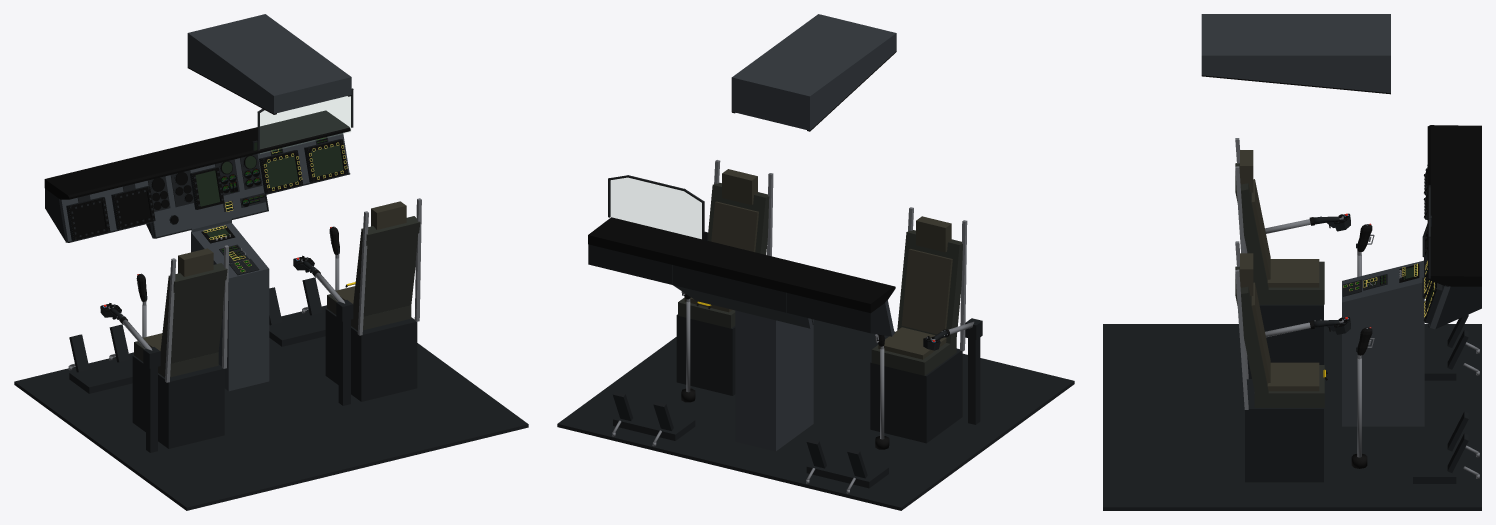
File: cockpit_ch47.glb
3 renders of one model, left to right at view 1: azimuth 30°, elevation 25°; view 2: azimuth 150°, elevation 25°; view 3: azimuth 270°, elevation 25°, orthographic. The views are drawn at different scales.
Parts seen in each view (by area): view 1: dark.264, panel_grey.004, black, panel_grey.002, dark.271, dark.272, seat_95, seat_95.001, hud_glass_69, panel_grey, panel_grey.001, dark.268 (+16 smaller); view 2: dark.264, panel_grey.004, panel_grey.002, black, dark.272, hud_glass_69, dark.271, dark.007, cushion_96.001, dark.006, seat_95.001, cushion_96 (+12 smaller); view 3: dark.264, panel_grey.004, panel_grey.002, black, dark.271, dark.272, dark.265, seat_95, cushion_94, cushion_94.001, seat_95.001, seat_93.001 (+9 smaller).
Boxes of the visible parts, box(x1,y1,x2,y2) form: dark.264: box(14, 305, 528, 510); panel_grey.004: box(187, 14, 351, 113); black: box(44, 110, 350, 199); panel_grey.002: box(191, 223, 269, 391); dark.271: box(325, 308, 417, 401); dark.272: box(132, 355, 224, 448); seat_95: box(353, 216, 420, 320); seat_95.001: box(160, 263, 227, 364); hud_glass_69: box(260, 96, 350, 153); panel_grey: box(59, 133, 349, 242); panel_grey.001: box(150, 201, 267, 238); dark.268: box(69, 358, 132, 393); dark.264: box(557, 319, 1074, 510); panel_grey.004: box(731, 14, 896, 130); panel_grey.002: box(735, 310, 813, 451); black: box(588, 217, 895, 313); dark.272: box(870, 348, 962, 443); hud_glass_69: box(610, 178, 701, 238); dark.271: box(676, 314, 735, 395); dark.007: box(672, 265, 809, 328); cushion_96.001: box(901, 249, 952, 334); dark.006: box(786, 293, 891, 336); seat_95.001: box(897, 230, 962, 343); cushion_96: box(711, 201, 758, 252); dark.264: box(1103, 324, 1481, 510); panel_grey.004: box(1201, 14, 1390, 93); panel_grey.002: box(1342, 260, 1424, 426); black: box(1427, 125, 1481, 286); dark.271: box(1245, 379, 1323, 482); dark.272: box(1259, 304, 1323, 364); dark.265: box(1413, 443, 1456, 483); seat_95: box(1235, 266, 1268, 396); cushion_94: box(1267, 362, 1319, 391); cushion_94.001: box(1267, 259, 1319, 287); seat_95.001: box(1235, 163, 1268, 292); seat_93.001: box(1256, 261, 1324, 304).
Size of the model in its own units: 2.2 by 2.15 by 1.92.
29 materials, 6 textured.
